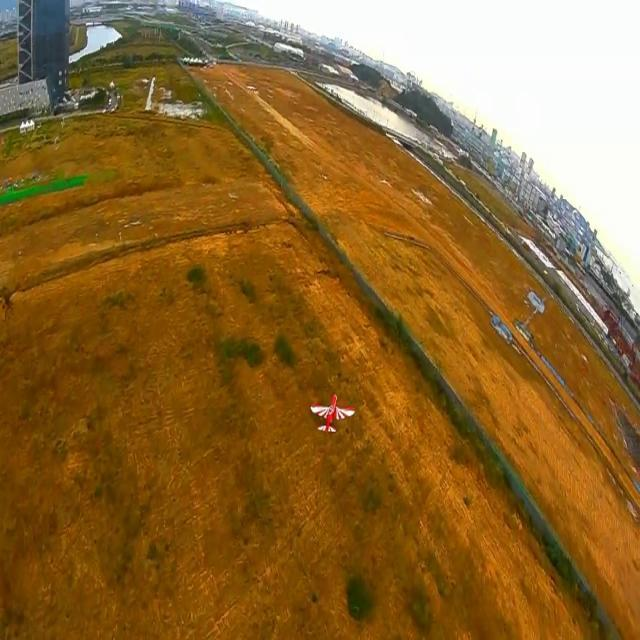iha: (309, 393, 356, 435)
